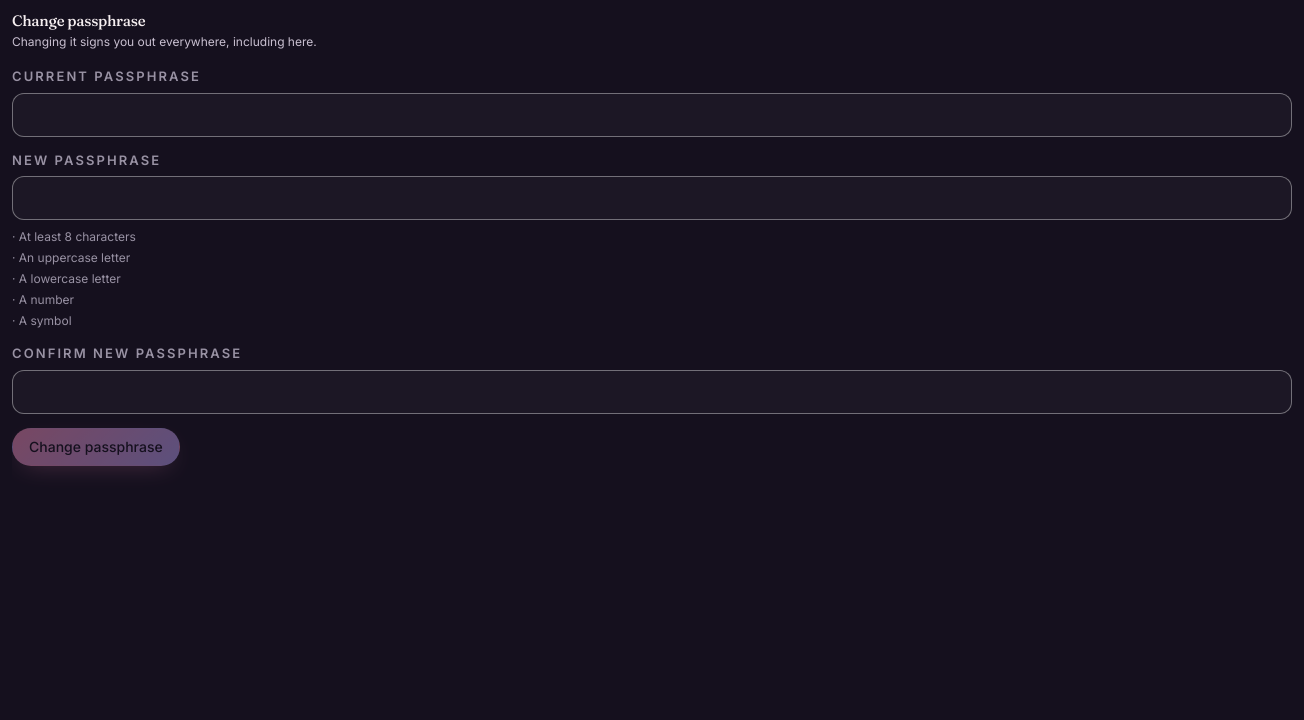
Test: validation is the SERVER’s job › surfaces the server’s field-level errors verbatim
Step 1. Type "old-one" into the password field labelled "Current passphrase" → x=652, y=115, box 12,93 -> 1292,137
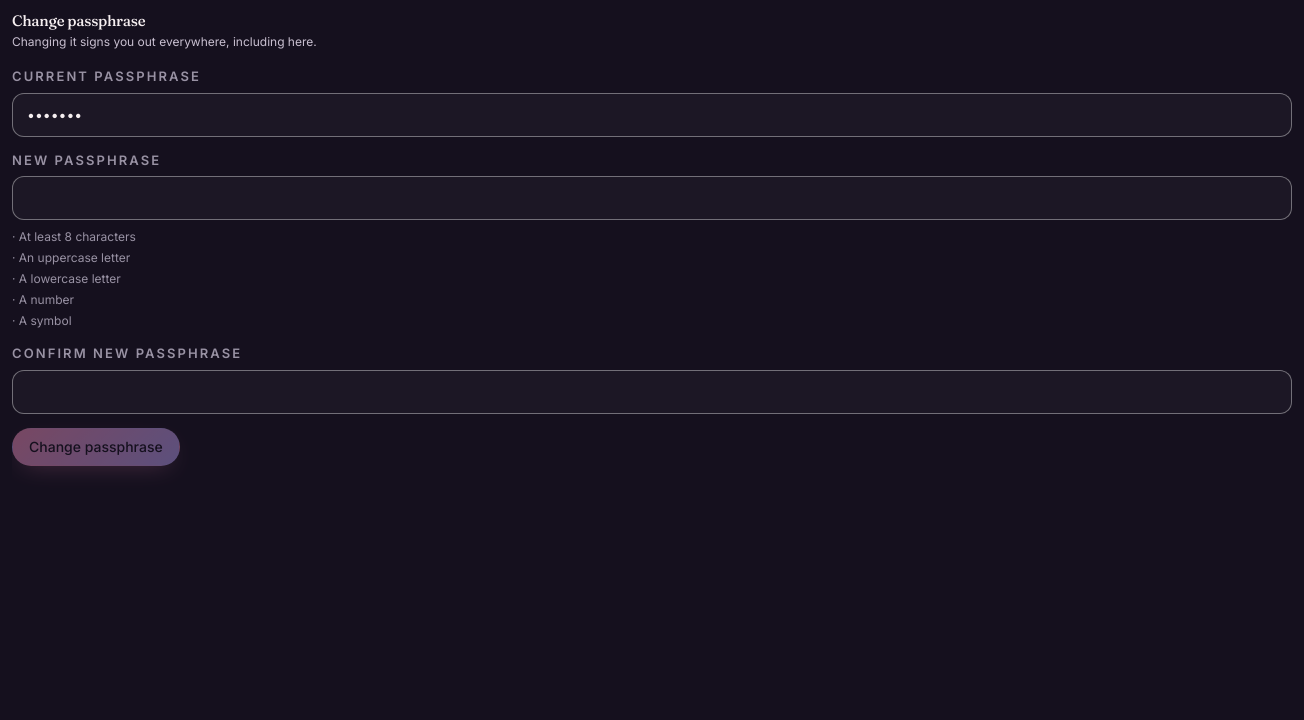
Step 2. Type "Brand-New-1!" into the password field labelled "New passphrase" → x=652, y=198, box 12,176 -> 1292,220
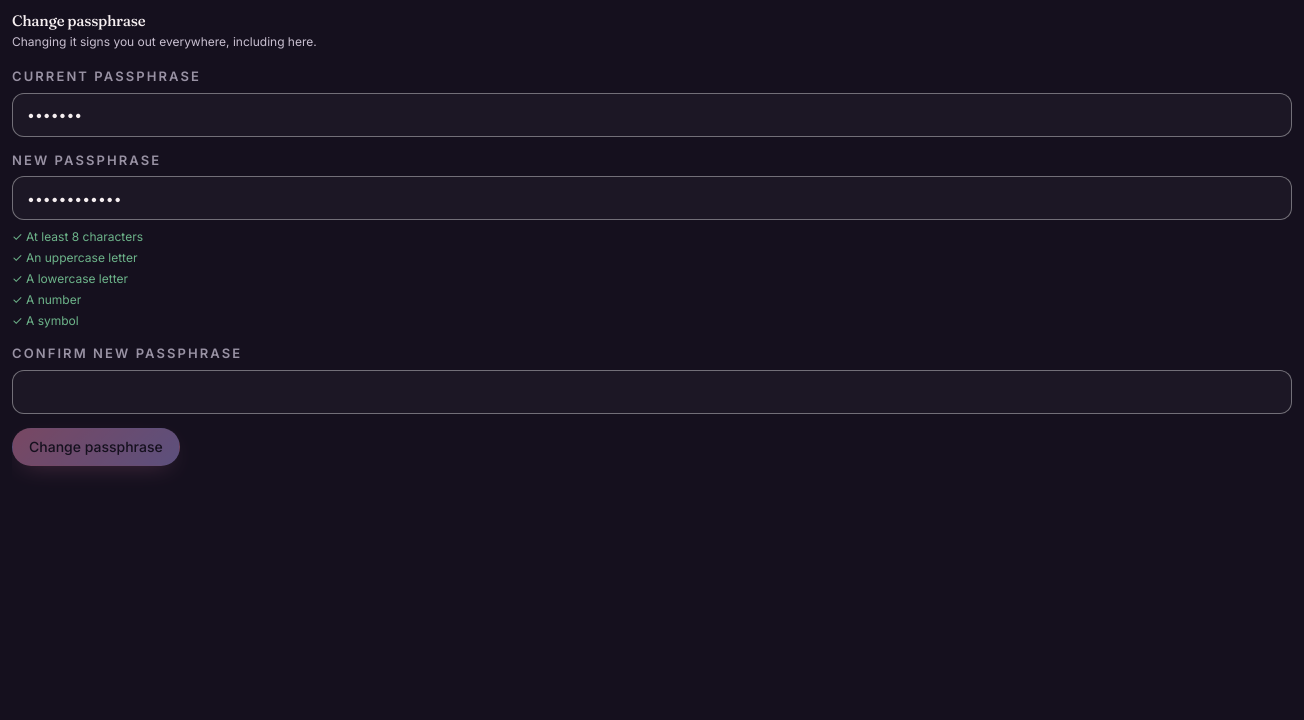
Step 3. Type "Brand-New-1!" into the password field labelled "Confirm new passphrase" → x=652, y=392, box 12,370 -> 1292,414
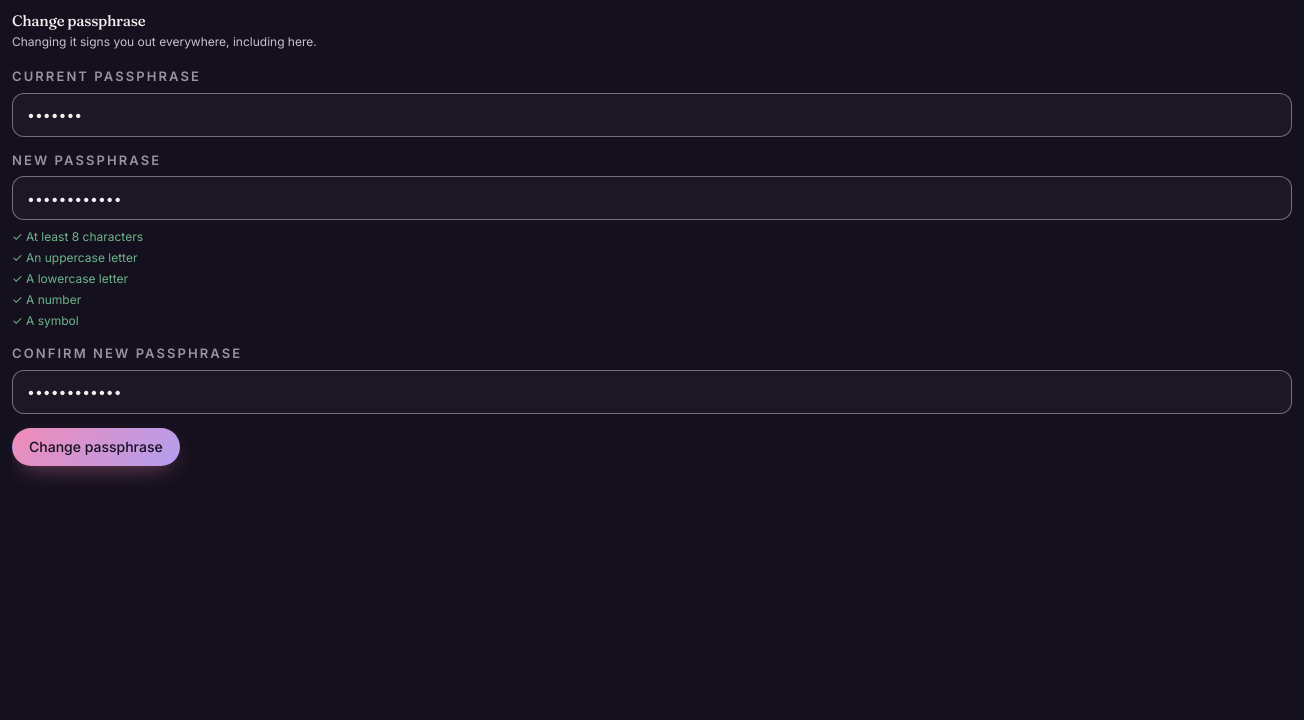
Step 4. Click the button "Change passphrase" → x=96, y=447, box 12,428 -> 180,466
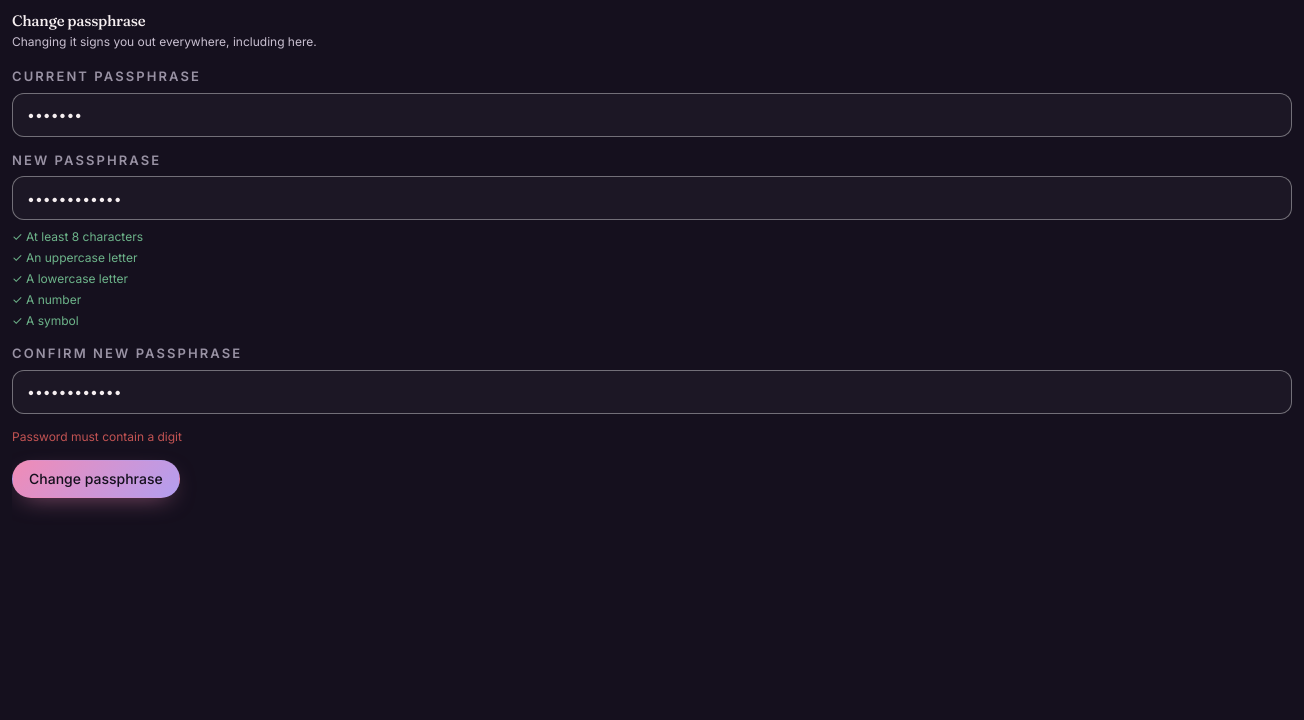
Check: the list item "Password must contain a digit" is shown, box 12,429 -> 182,444
